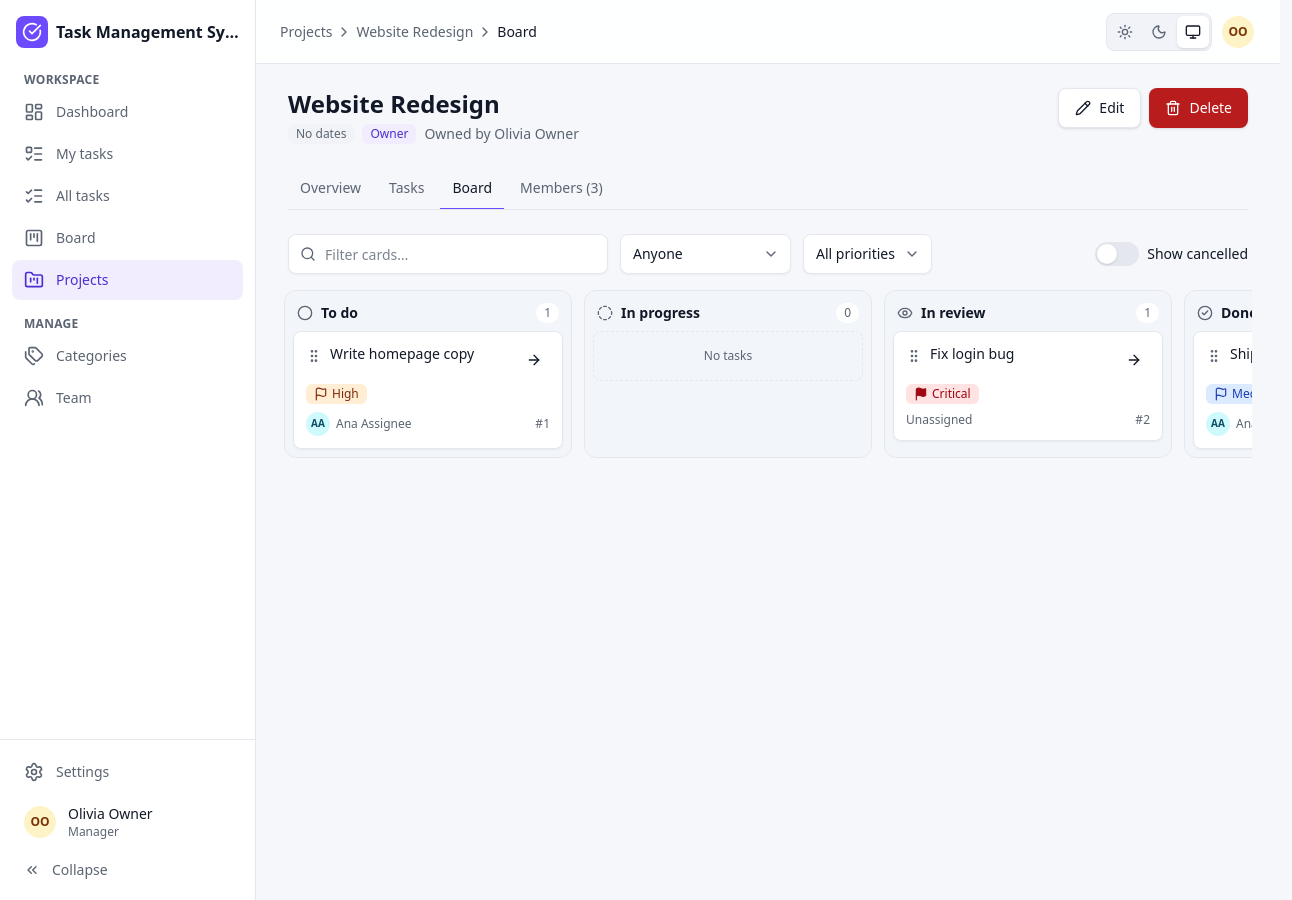
Scenario: Project board › filters every column by assignee (server-side) and keeps it in the URL
The width and height of the screenshot is (1292, 900).
Expected: the link "Fix login bug" is shown, [930,344,1014,363]
Select "Ana Assignee" in the dropdown named "Assignee" at (706, 254), box [620,234,791,274]
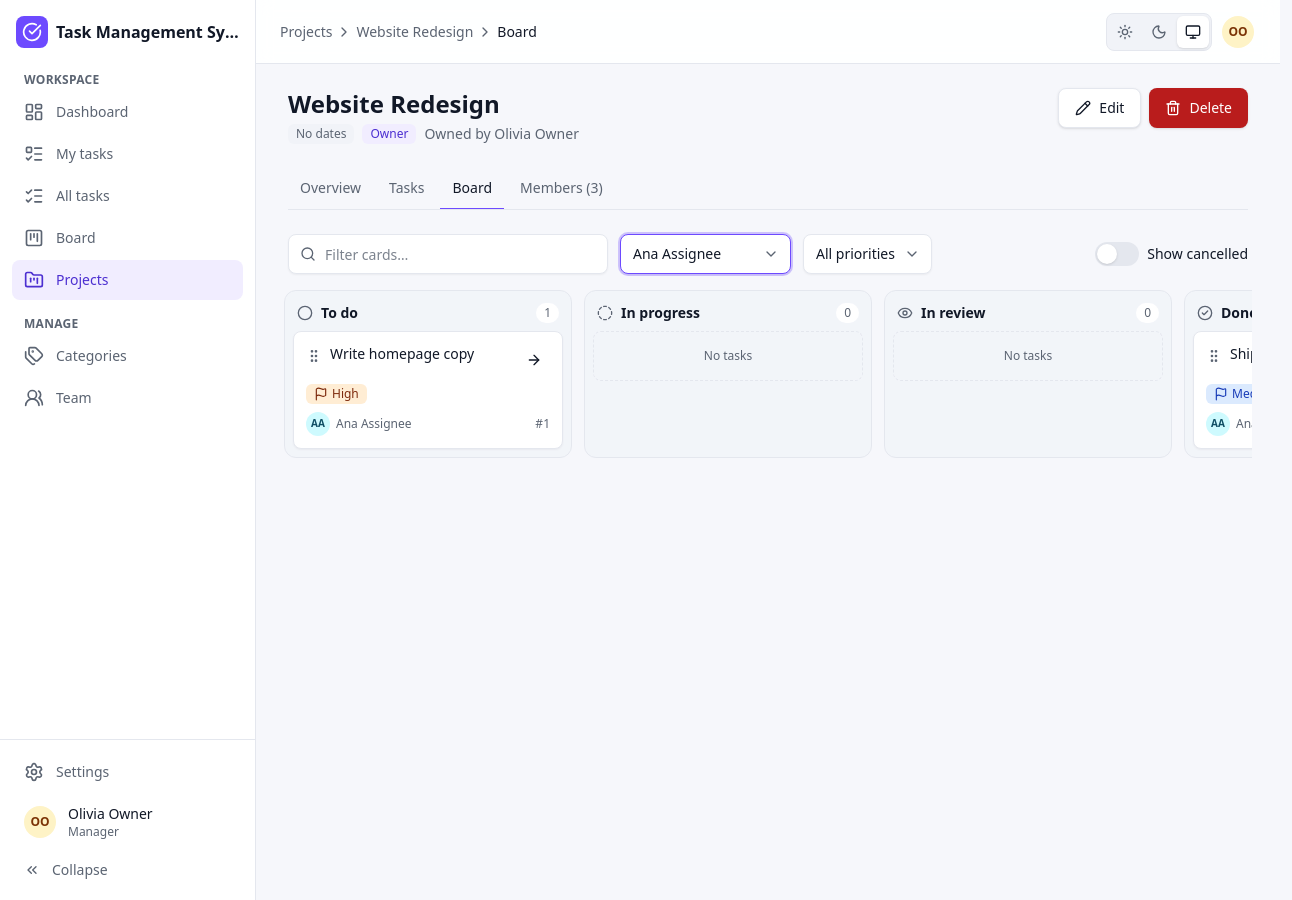
Expected: the link "Fix login bug" is gone
